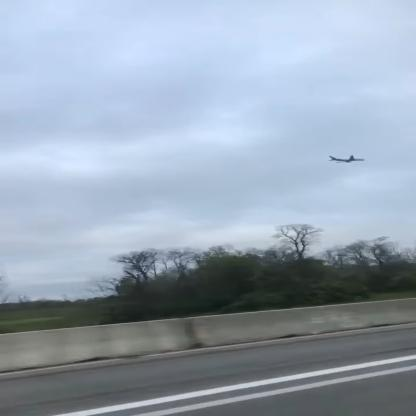plane: (324, 152, 365, 167)
